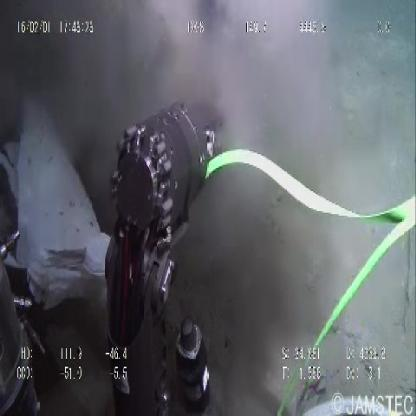Rov: (102, 89, 233, 408)
Rác: (2, 102, 114, 308)
